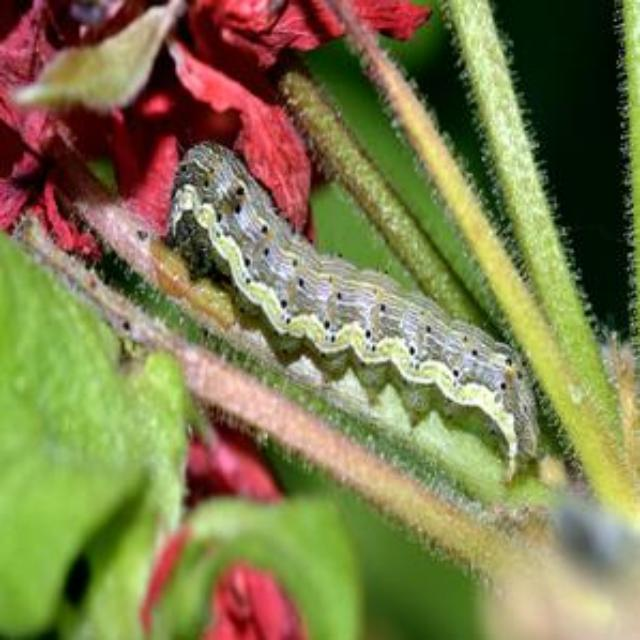Cotton bollworm: (151, 120, 561, 488)
